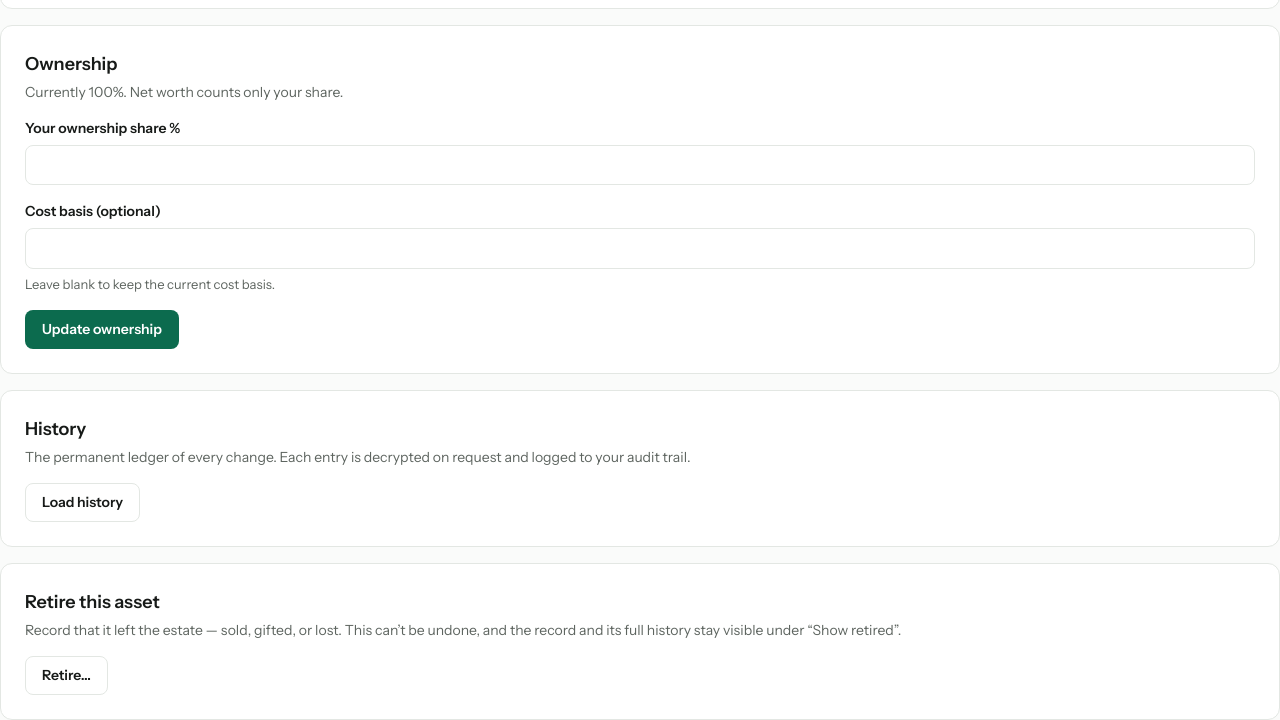
Test case: AssetDetailPanel › a cancelled retire ceremony retires nothing
(page scrolled)
Click the button "Retire…": (66, 676) [25, 656, 108, 695]
(page scrolled)
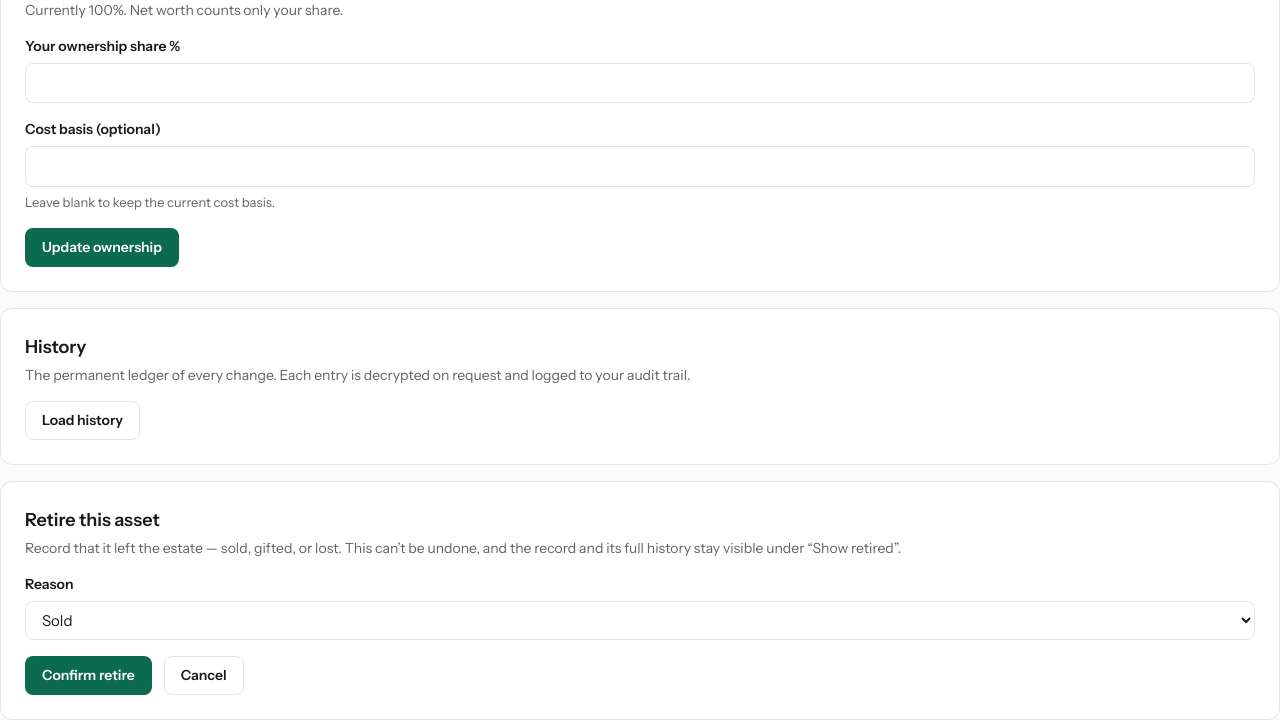
Click the button "Confirm retire": (88, 676) [25, 656, 152, 695]
(page scrolled)
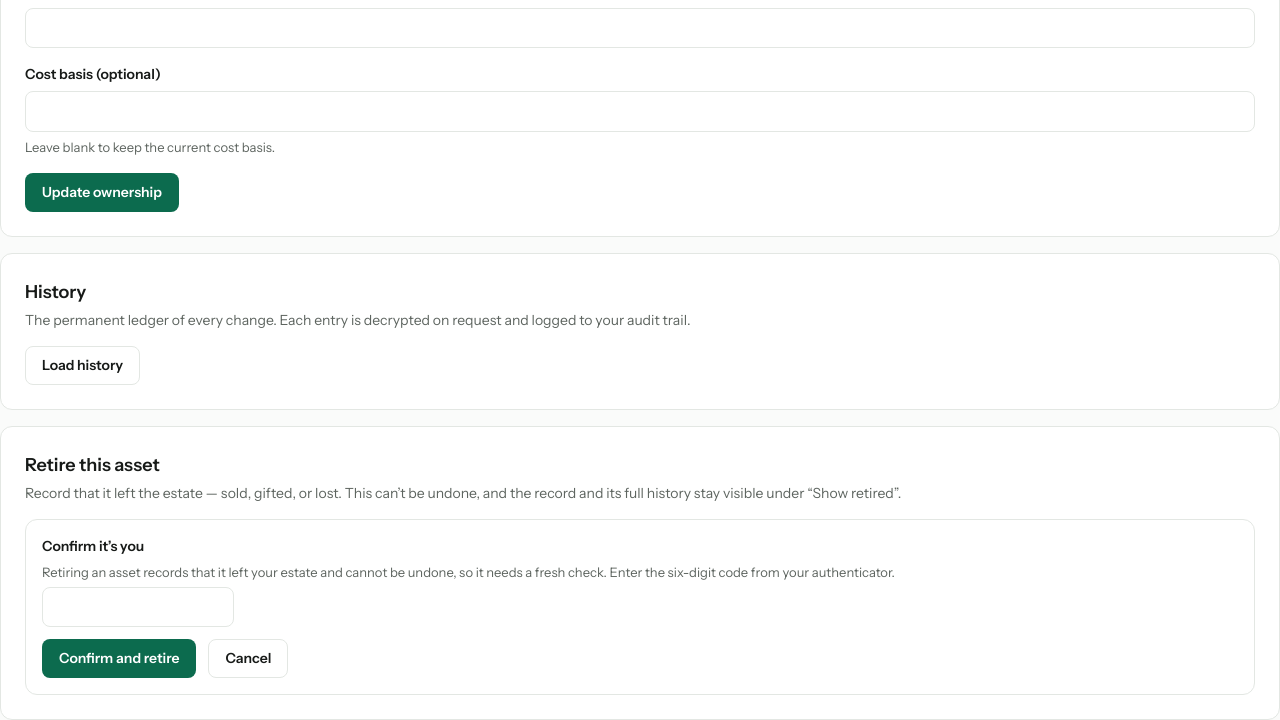
Now the field labelled "Confirm it’s you" is shown, box [42, 587, 234, 627]
Click the button "Cancel": (248, 659) [208, 639, 288, 678]
(page scrolled)
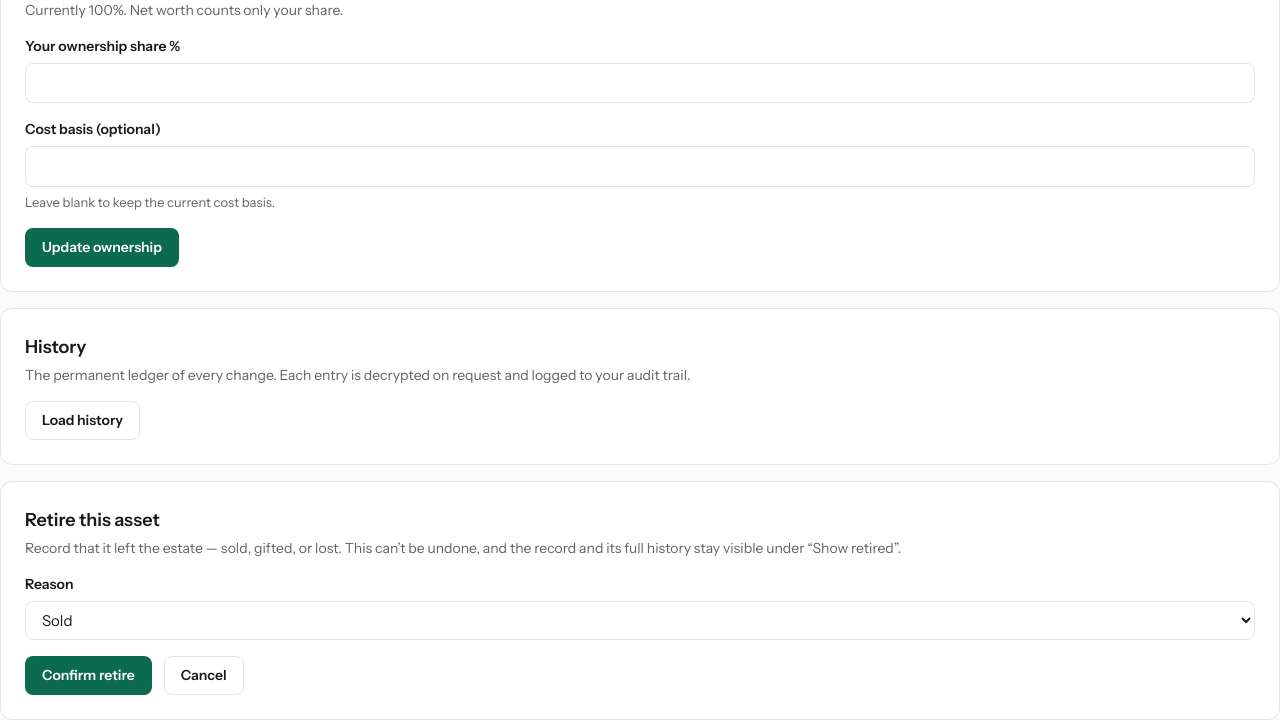
Now the label labelled "Confirm it’s you" is gone
